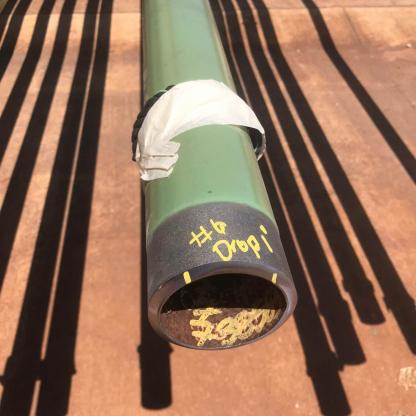Bevel: (209, 269, 233, 276)
